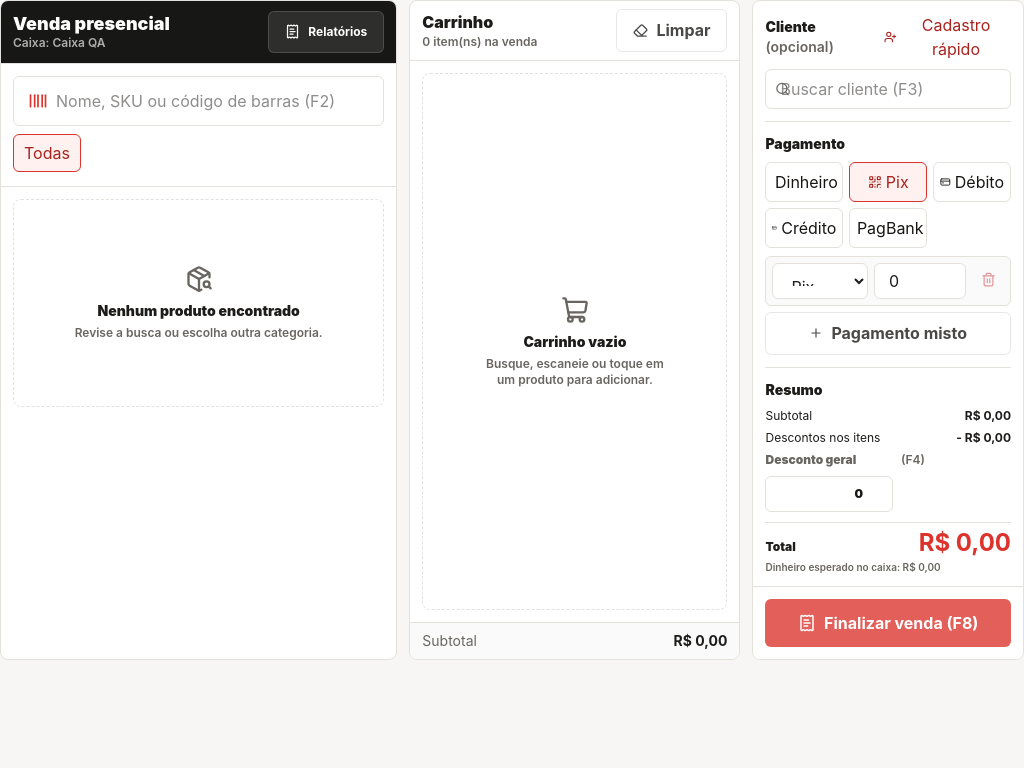
Scenario: PDV - pagamento misto › distingue falha de conexão de cliente inexistente
Type "Maria" into the field named "Buscar cliente por" at (888, 89), box [766,69,1011,109]
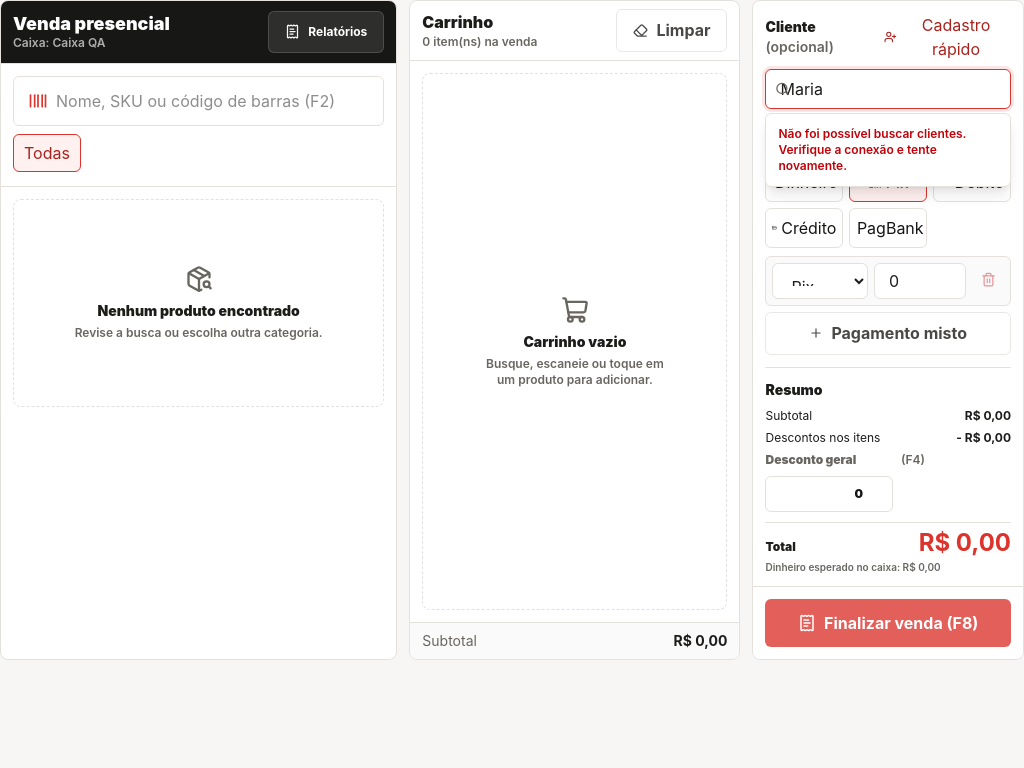
Result: the message shows "Não foi possível buscar clientes" at [778,126,966,173]
